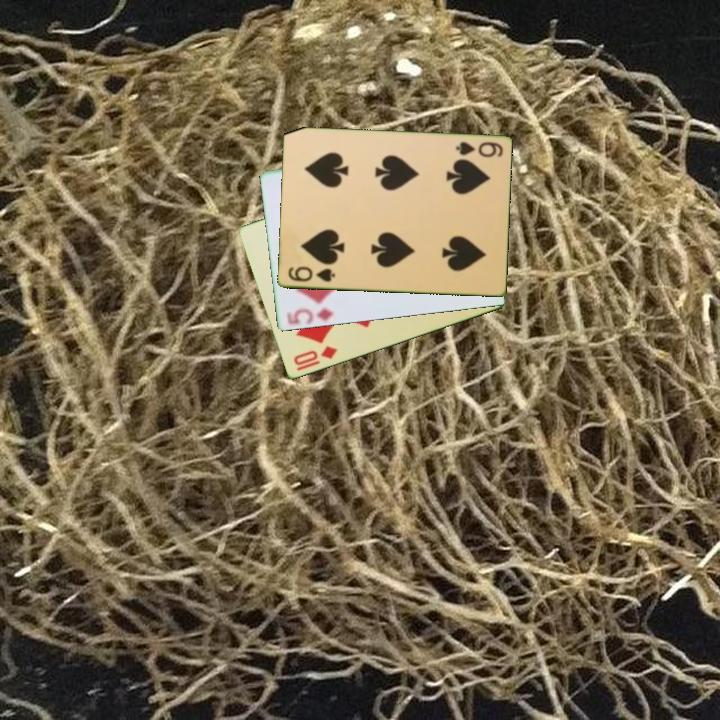10d: (290, 343, 340, 374)
5d: (285, 304, 337, 327)
6s: (285, 263, 338, 285), (452, 139, 505, 160)
